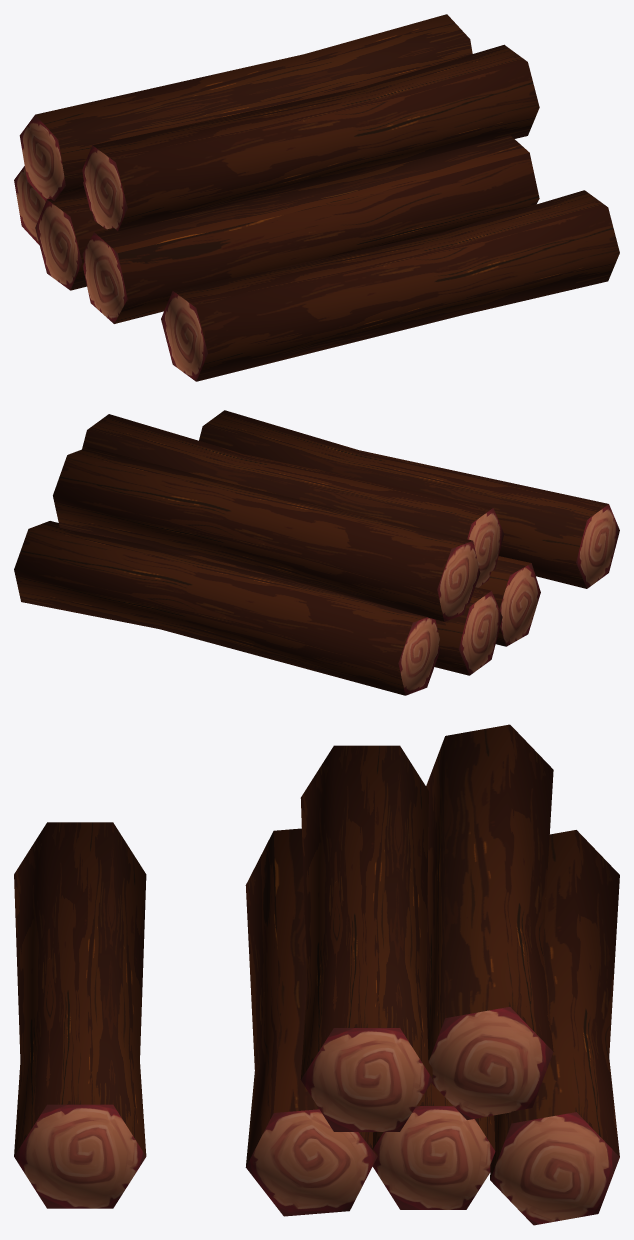
The model's file is pile-de-bois-4 (source).glb.
3 views of the same model, one above another, from view 1: azimuth 30°, elevation 25°; view 2: azimuth 150°, elevation 25°; view 3: azimuth 270°, elevation 25° (orthographic). The views are drawn at different scales.
Parts seen in each view (by area): view 1: SM_PROP_treetrunk_01, SM_PROP_treetrunk_02; view 2: SM_PROP_treetrunk_01, SM_PROP_treetrunk_02; view 3: SM_PROP_treetrunk_01, SM_PROP_treetrunk_02.
Boxes of the visible parts, x1,y1,x2,y2 form: SM_PROP_treetrunk_01: (14,14,539,323); SM_PROP_treetrunk_02: (161,190,619,381); SM_PROP_treetrunk_01: (14,414,540,695); SM_PROP_treetrunk_02: (199,410,619,588); SM_PROP_treetrunk_01: (245,724,619,1225); SM_PROP_treetrunk_02: (14,822,146,1208).
Bounding box in the file's own units: 4.84 × 1.6 × 4.17.
2 materials, 2 textured.
